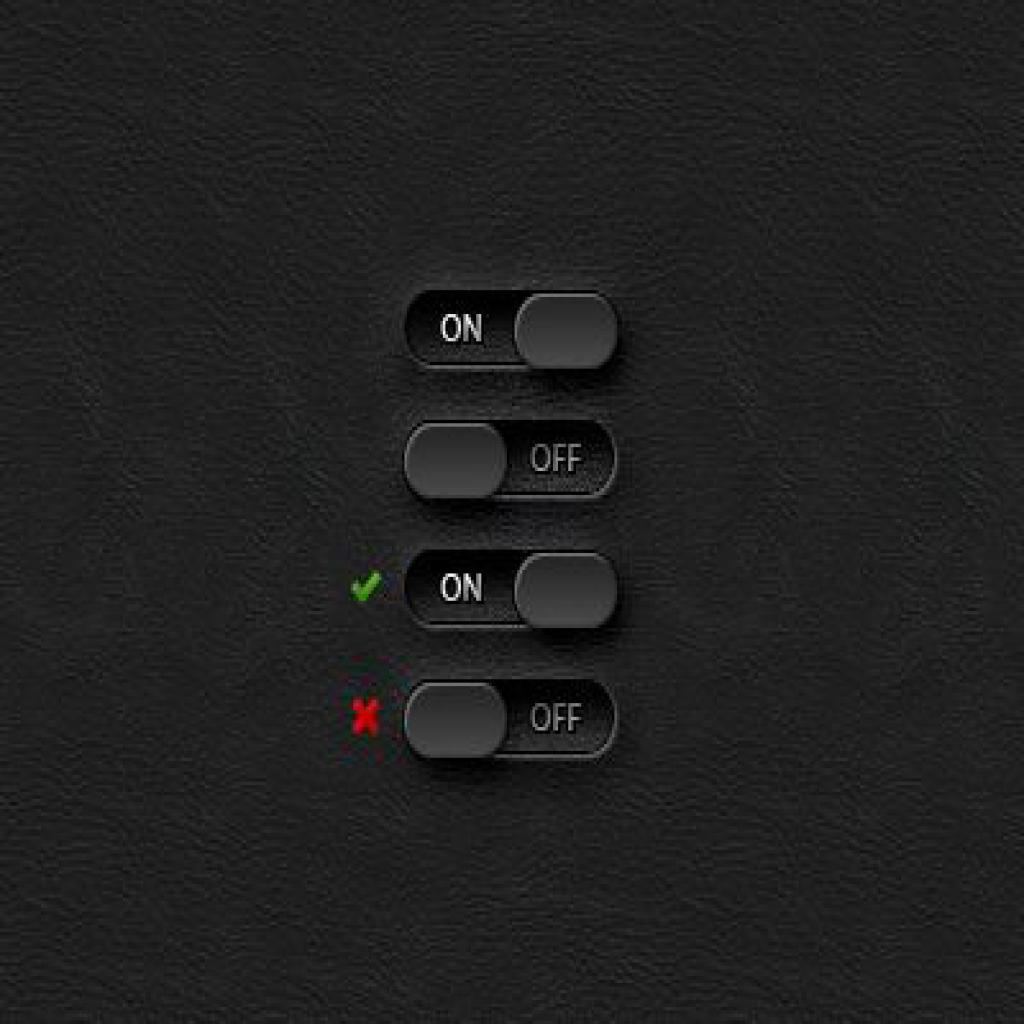switch: (400, 546, 625, 646), (401, 669, 623, 766), (402, 283, 618, 382), (405, 420, 620, 510)
